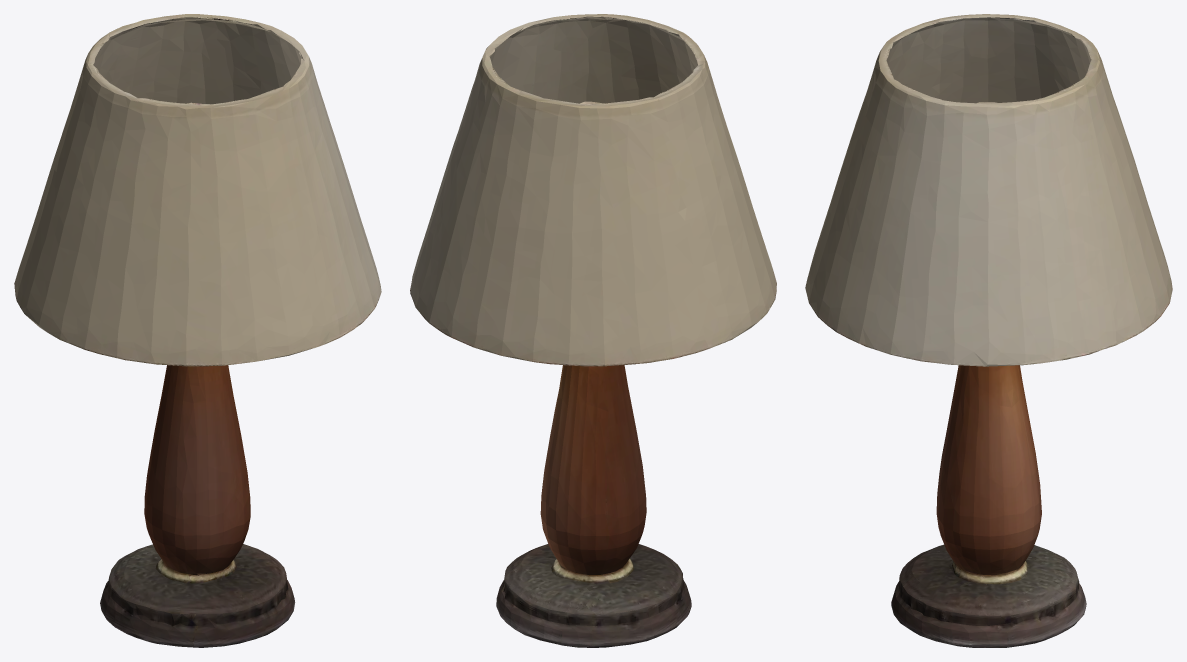
Rendered from ast_705b70b74c7b.glb.
3 renders of one model, left to right at view 1: azimuth 30°, elevation 25°; view 2: azimuth 150°, elevation 25°; view 3: azimuth 270°, elevation 25°, orthographic.
Parts seen in each view (by area): view 1: geometry_0; view 2: geometry_0; view 3: geometry_0.
Part boxes in pixels (box(x1,y1,x2,y2)): geometry_0: box(14, 14, 381, 647); geometry_0: box(410, 14, 776, 647); geometry_0: box(805, 14, 1172, 647).
Size of the model in its own units: 0.3738 by 0.6189 by 0.3746.
1 material, 1 textured.
